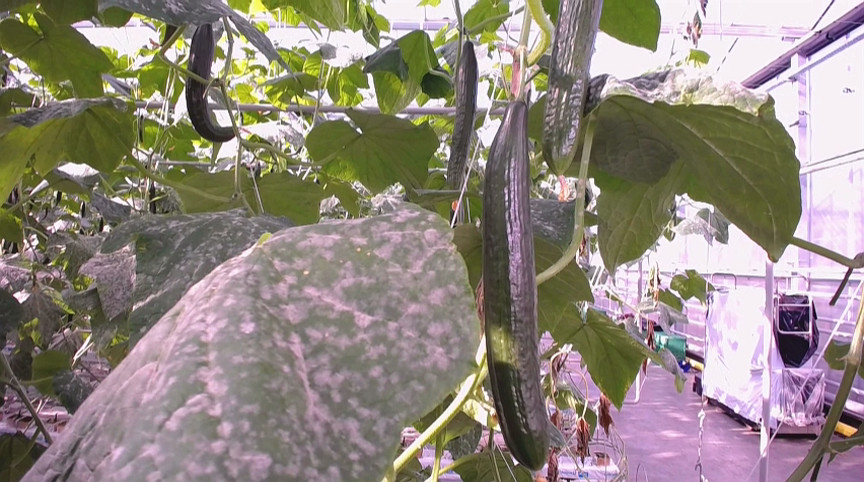cucumber: (481, 102, 552, 469), (542, 1, 602, 175), (186, 23, 237, 143), (446, 41, 479, 192)
